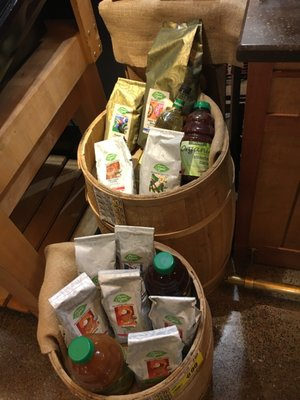burger: (179, 99, 215, 184)
